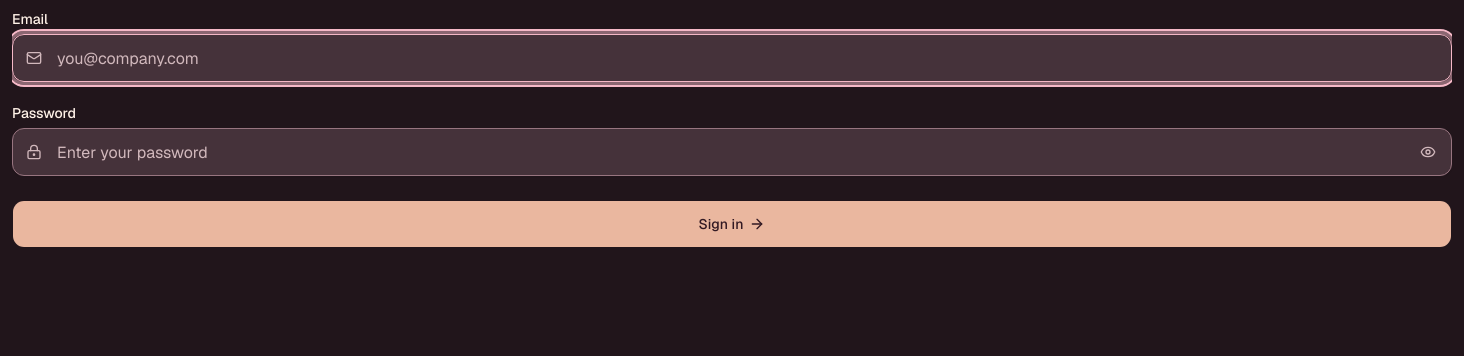
Scenario: LoginForm › shows an assertive error and keeps the typed values on invalid credentials
Type "manager@example.com" into the field labelled "Email".
click(732, 58); type("manager@example.com")  # box [12,34,1452,82]
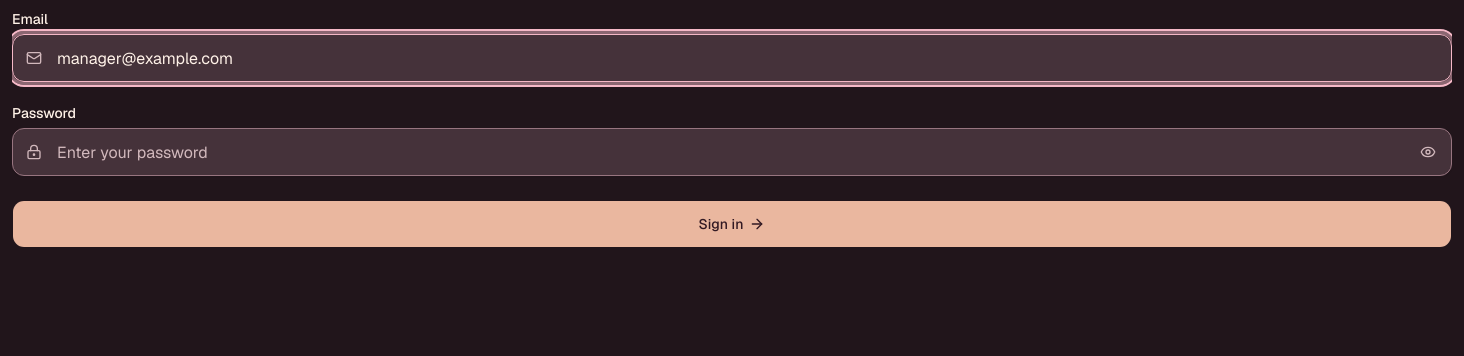
Type "wrong-password" into the password field labelled "Password".
click(732, 152); type("wrong-password")  # box [12,128,1452,176]
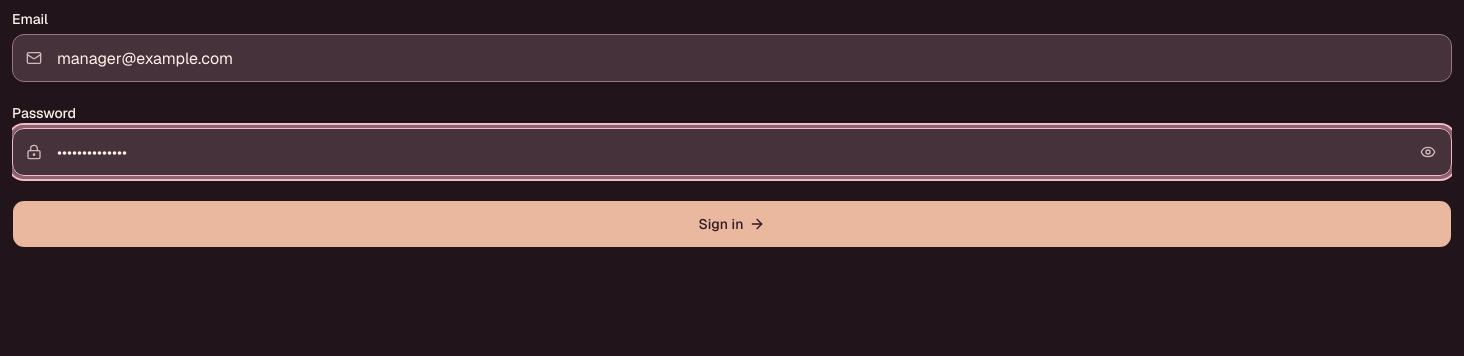
Click the button "Sign in".
click(732, 224)  # box [12,200,1452,248]
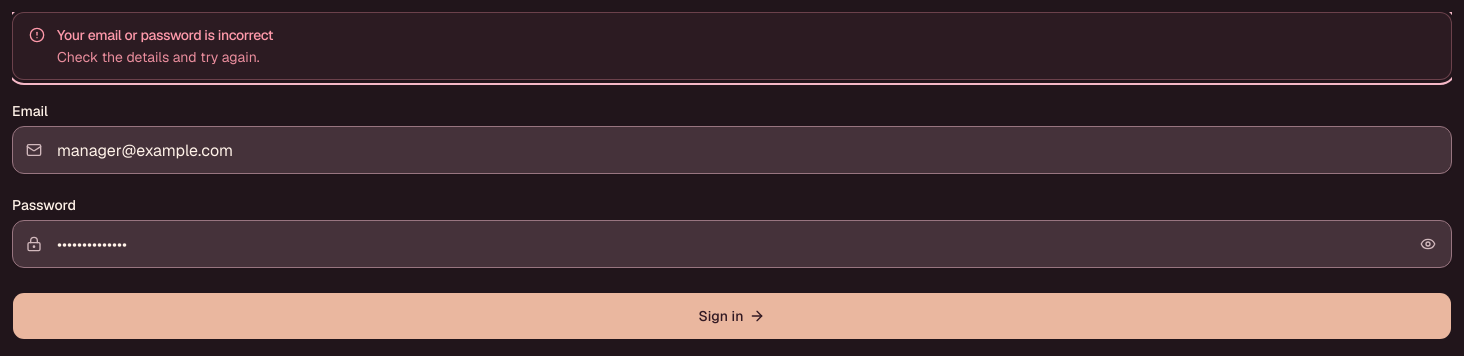
Now the message shows "Your email or password is incorrect", box [57,26,273,44]
